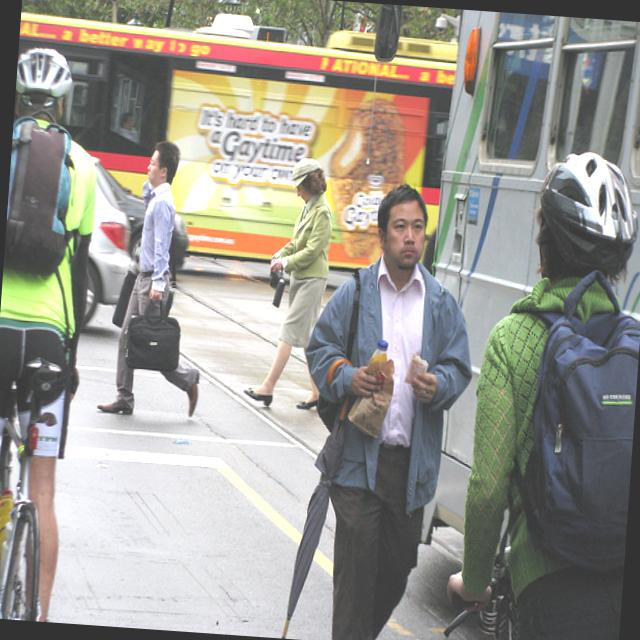Vehicle: (412, 8, 640, 550), (4, 0, 454, 273), (84, 158, 194, 322)
